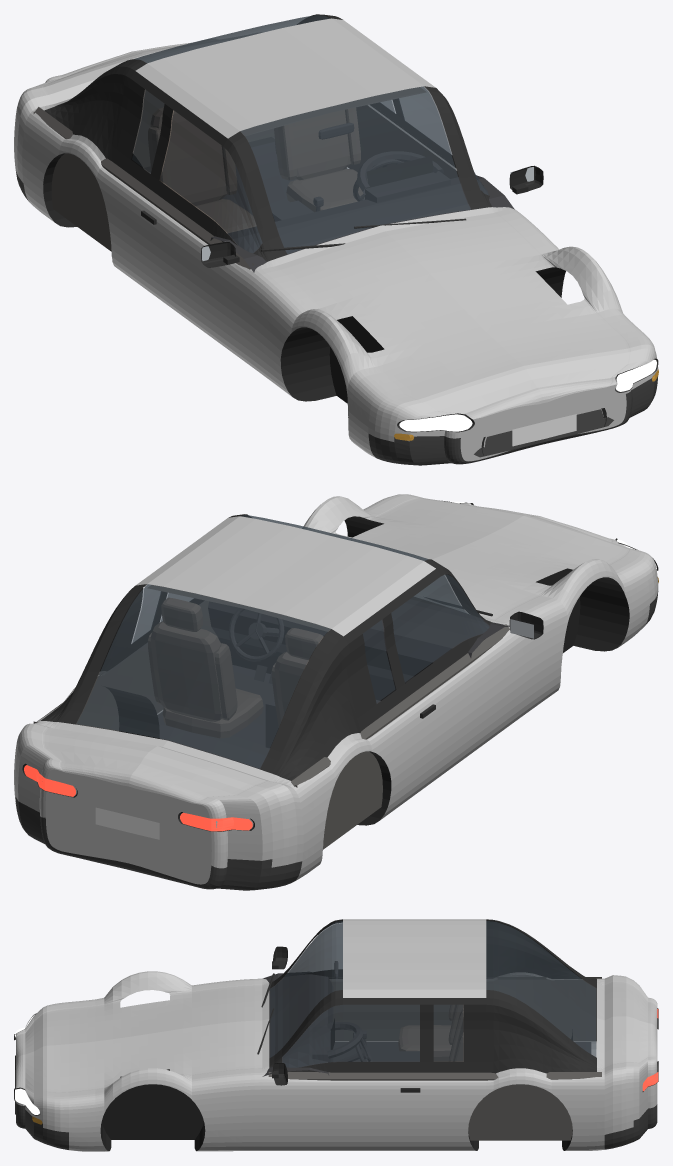
File: car_kaiju.fbx
The picture shows the model from 3 angles, top to bottom: view 1: azimuth 30°, elevation 25°; view 2: azimuth 150°, elevation 25°; view 3: azimuth 270°, elevation 25°; orthographic projection. The views are drawn at different scales.
Parts seen in each view (by area): view 1: kaiju__hood, kaiju__glass, kaiju__roof, kaiju__seats, kaiju__interior, kaiju__pillars, kaiju__cabin, kaiju__fenderFR, kaiju__doorR, kaiju__quarterR, kaiju__wells, kaiju__trunk (+9 smaller); view 2: kaiju__glass, kaiju__hood, kaiju__roof, kaiju__pillars, kaiju__interior, kaiju__seats, kaiju__rearPanel, kaiju__trunk, kaiju__doorR, kaiju__cabin, kaiju__quarterR, kaiju__fenderFR (+7 smaller); view 3: kaiju__hood, kaiju__glass, kaiju__cabin, kaiju__pillars, kaiju__doorL, kaiju__roof, kaiju__fenderFL, kaiju__quarterL, kaiju__interior, kaiju__trunk, kaiju__wells, kaiju__seals (+6 smaller).
Boxes of the visible parts, <box> form: kaiju__hood: <box>257,209,645,419</box>; kaiju__glass: <box>132,15,488,253</box>; kaiju__roof: <box>135,18,435,138</box>; kaiju__seats: <box>148,107,367,233</box>; kaiju__interior: <box>149,123,514,272</box>; kaiju__pillars: <box>45,14,491,261</box>; kaiju__cabin: <box>33,87,458,269</box>; kaiju__fenderFR: <box>235,268,444,457</box>; kaiju__doorR: <box>123,189,245,359</box>; kaiju__quarterR: <box>14,89,131,277</box>; kaiju__wells: <box>43,141,565,403</box>; kaiju__trunk: <box>27,33,511,270</box>; kaiju__glass: <box>77,515,489,768</box>; kaiju__hood: <box>307,494,645,623</box>; kaiju__roof: <box>136,516,435,636</box>; kaiju__pillars: <box>45,514,491,780</box>; kaiju__interior: <box>157,599,509,769</box>; kaiju__seats: <box>148,597,323,738</box>; kaiju__rearPanel: <box>39,761,227,884</box>; kaiju__trunk: <box>27,595,509,808</box>; kaiju__doorR: <box>396,633,517,807</box>; kaiju__cabin: <box>33,585,509,849</box>; kaiju__quarterR: <box>219,719,404,880</box>; kaiju__fenderFR: <box>507,552,658,725</box>; kaiju__hood: <box>16,972,262,1099</box>; kaiju__glass: <box>270,921,596,1067</box>; kaiju__cabin: <box>268,977,601,1140</box>; kaiju__pillars: <box>269,919,596,1071</box>; kaiju__doorL: <box>274,1079,448,1150</box>; kaiju__roof: <box>343,919,486,997</box>; kaiju__fenderFL: <box>25,1068,274,1151</box>; kaiju__quarterL: <box>449,1062,647,1150</box>; kaiju__interior: <box>262,961,591,1076</box>; kaiju__trunk: <box>262,975,657,1074</box>; kaiju__wells: <box>100,1029,572,1151</box>; kaiju__seals: <box>287,966,596,1073</box>.
Bounding box in the file's own units: 2.28 × 1.27 × 4.88.
